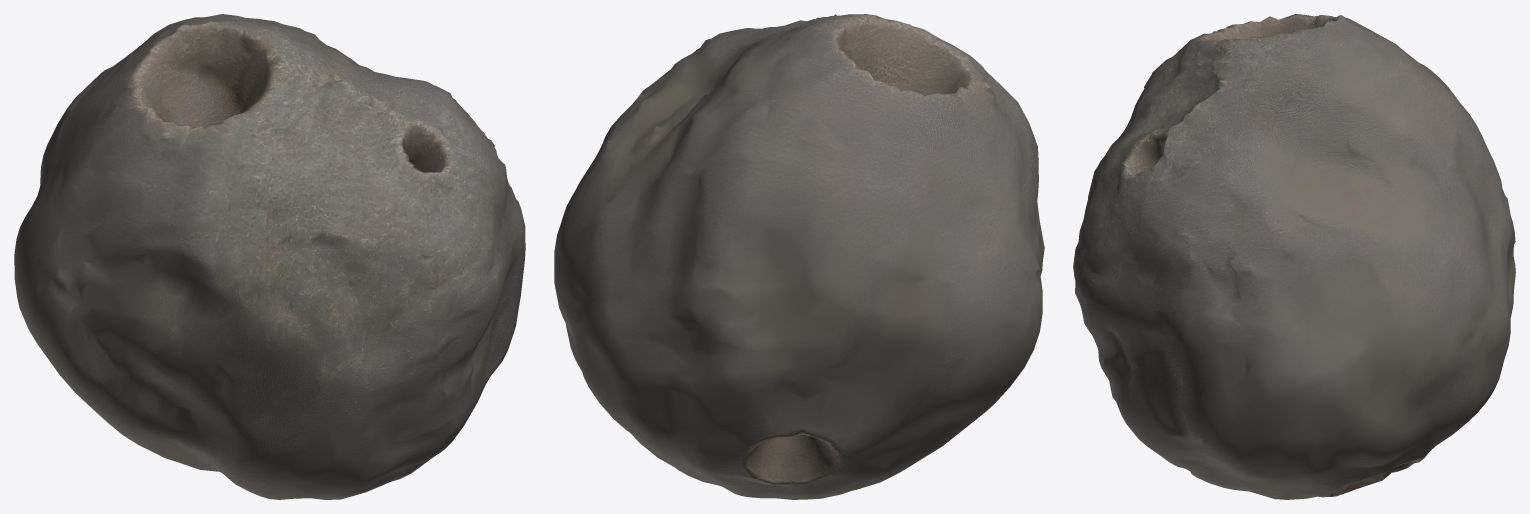
The model's file is runtime_small_02.glb.
The picture shows the model from 3 angles, left to right: view 1: azimuth 30°, elevation 25°; view 2: azimuth 150°, elevation 25°; view 3: azimuth 270°, elevation 25°; orthographic projection. The views are drawn at different scales.
Parts seen in each view (by area): view 1: tripo_node_394e375e-02f3-4cfe-ac09-6906f841a854; view 2: tripo_node_394e375e-02f3-4cfe-ac09-6906f841a854; view 3: tripo_node_394e375e-02f3-4cfe-ac09-6906f841a854.
Part boxes in pixels (x1,y1,x2,y2): tripo_node_394e375e-02f3-4cfe-ac09-6906f841a854: (14, 14, 525, 499); tripo_node_394e375e-02f3-4cfe-ac09-6906f841a854: (554, 14, 1044, 499); tripo_node_394e375e-02f3-4cfe-ac09-6906f841a854: (1073, 14, 1515, 499).
Bounding box in the file's own units: 0.9801 × 0.9458 × 0.8801.
1 material, 1 textured.
